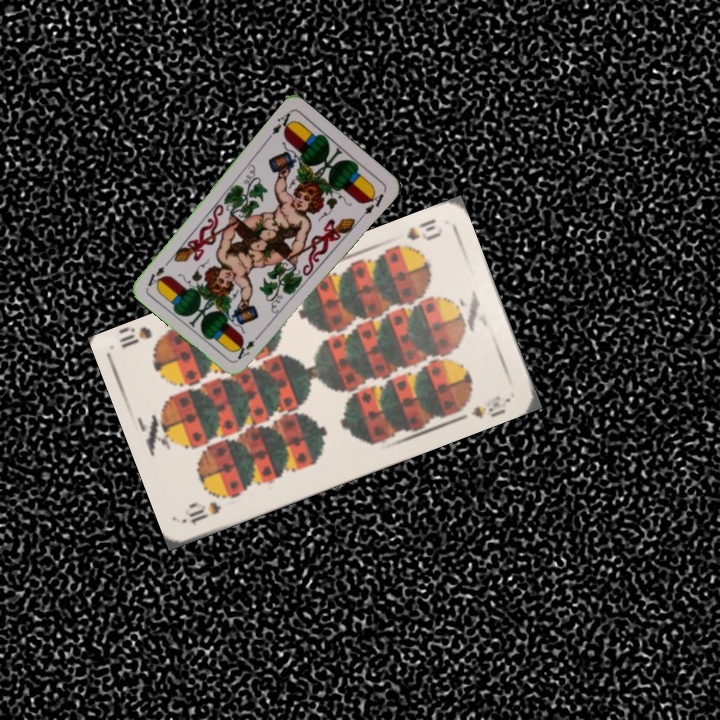EA: (263, 108, 297, 142), (233, 329, 264, 362)
S10: (389, 214, 446, 254), (185, 497, 224, 528)
